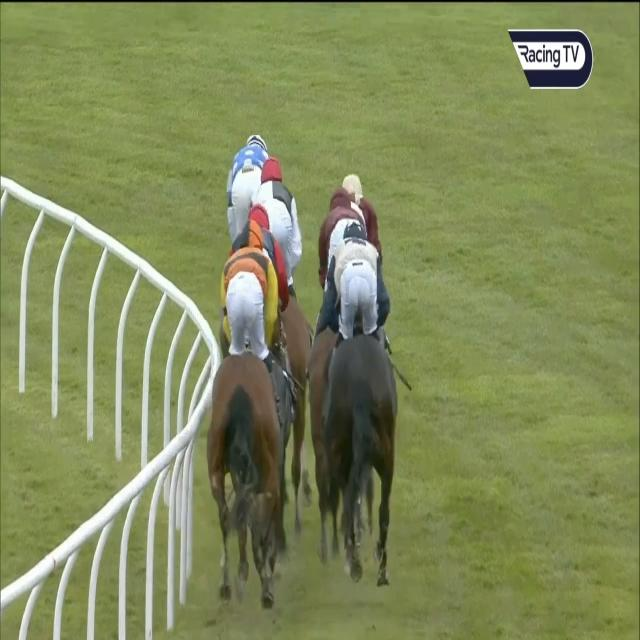horses-racing: (308, 221, 416, 563), (214, 230, 278, 608), (226, 202, 300, 323), (249, 154, 310, 294), (310, 177, 383, 280), (219, 127, 275, 249), (335, 162, 395, 250)
